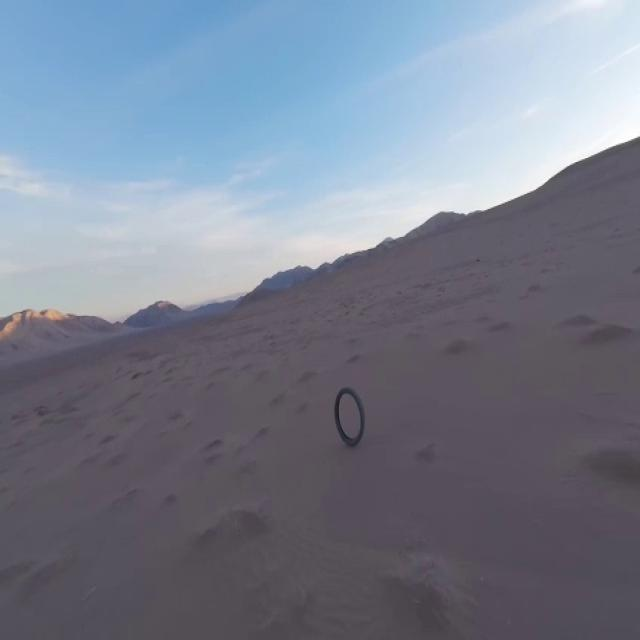Tire: (334, 387, 364, 446)
